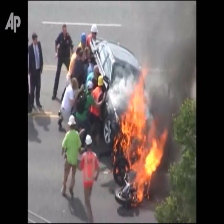fire_h: (120, 63, 170, 203)
fire_l: (113, 137, 118, 152), (112, 155, 115, 164), (115, 168, 119, 173), (124, 166, 128, 171)
